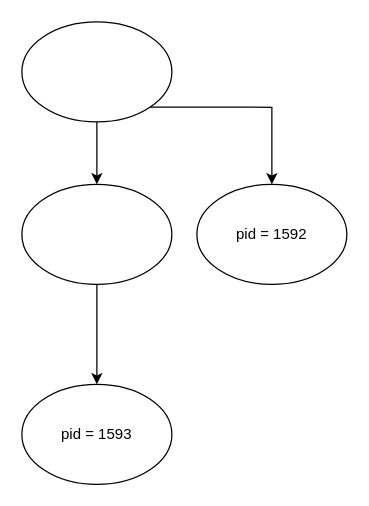
The diagram is 369 pixels wide and 506 high, and some of its shapes have lost their labels. Each missing label, with the centre of its shape:
main 1590: the point at 96,71
pid = 1591: the point at 96,233
